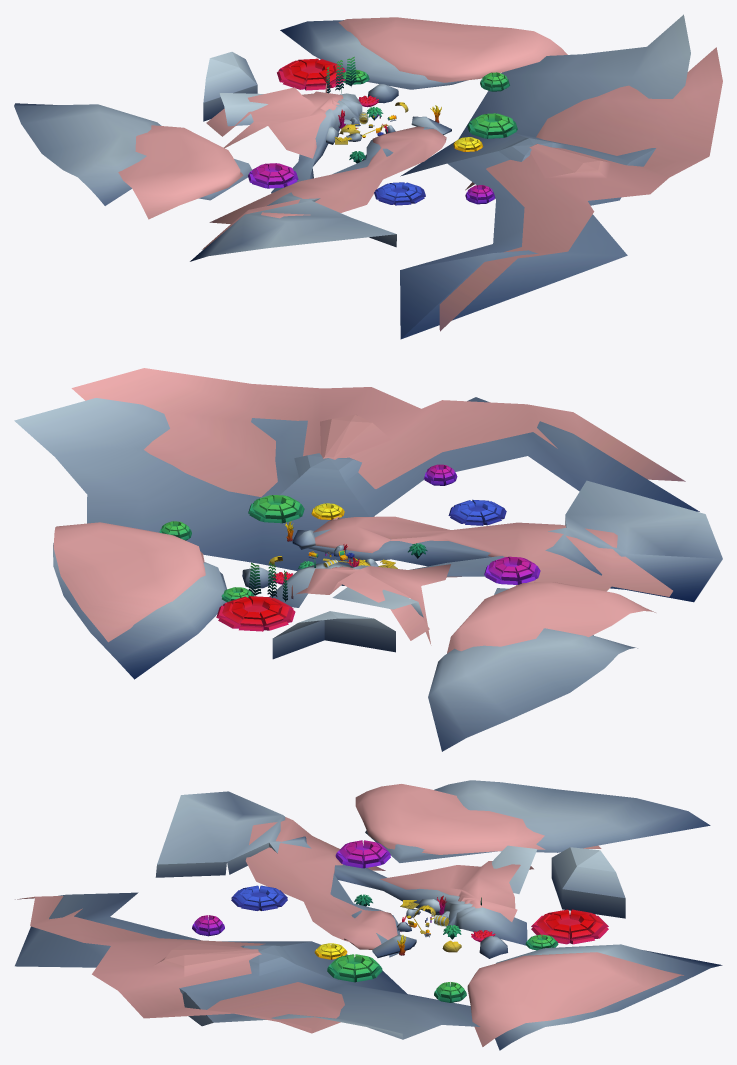
File: collection.fbx
3 views of the same model, one above another, from view 1: azimuth 30°, elevation 25°; view 2: azimuth 150°, elevation 25°; view 3: azimuth 270°, elevation 25° (orthographic). The views are drawn at different scales.
Parts seen in each view (by area): view 1: rocks2, moss2, moss1, moss3, rocks1, rock4, moss4, rock3, boulder7, anemone_far1, anemone_far3, anemone_far7 (+1 smaller); view 2: rocks2, moss2, rocks1, moss1, rock4, moss3, moss4, rock3, boulder7, anemone_far1, anemone_far3, anemone_far7 (+1 smaller); view 3: rocks2, moss2, rocks1, moss1, moss3, rock4, moss4, boulder7, rock3, anemone_far1, anemone_far3, anemone_far7 (+5 smaller).
Part boxes in pixels (<box>): rocks2: <box>400,14,690,339</box>; moss2: <box>439,47,722,331</box>; moss1: <box>202,87,446,249</box>; moss3: <box>338,17,567,82</box>; rocks1: <box>190,92,433,261</box>; rock4: <box>14,103,252,205</box>; moss4: <box>118,125,243,219</box>; rock3: <box>280,20,467,89</box>; boulder7: <box>203,52,257,121</box>; anemone_far1: <box>277,58,345,90</box>; anemone_far3: <box>467,113,517,138</box>; anemone_far7: <box>248,163,298,188</box>; rocks2: <box>14,397,699,570</box>; moss2: <box>71,368,685,516</box>; rocks1: <box>269,480,722,617</box>; moss1: <box>296,516,672,645</box>; rock4: <box>428,588,637,751</box>; moss3: <box>53,522,205,642</box>; moss4: <box>447,582,655,653</box>; rock3: <box>53,543,226,679</box>; boulder7: <box>272,611,395,659</box>; anemone_far1: <box>216,596,295,631</box>; anemone_far3: <box>248,495,304,523</box>; anemone_far7: <box>484,556,540,584</box>; rocks2: <box>15,892,479,1039</box>; moss2: <box>15,896,344,1033</box>; rocks1: <box>155,791,537,957</box>; moss1: <box>245,817,533,949</box>; moss3: <box>467,952,683,1046</box>; rock4: <box>365,780,710,862</box>; moss4: <box>355,784,601,854</box>; boulder7: <box>551,847,625,918</box>; rock3: <box>495,944,722,1050</box>; anemone_far1: <box>531,909,608,944</box>; anemone_far3: <box>327,954,382,982</box>; anemone_far7: <box>335,840,390,868</box>.
Size of what is drawn, in the model's own units: 0.5426 by 0.0851 by 0.5346.
Materials: 4 (2 with a texture image).
